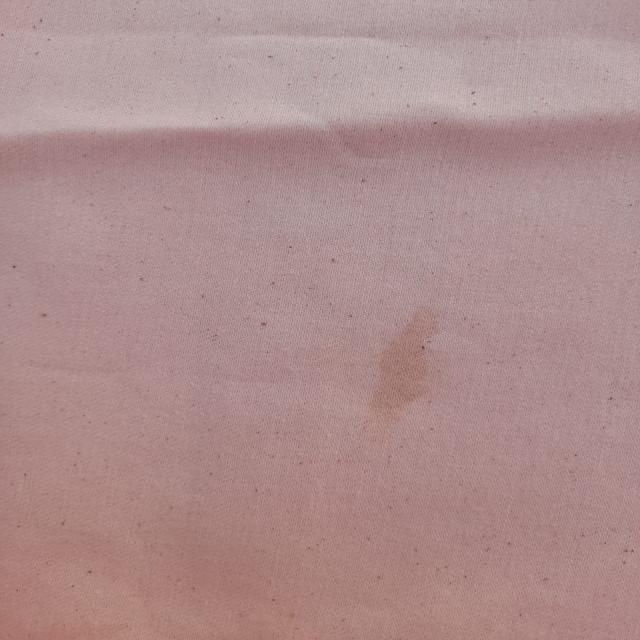taaaches: (364, 302, 458, 432)
